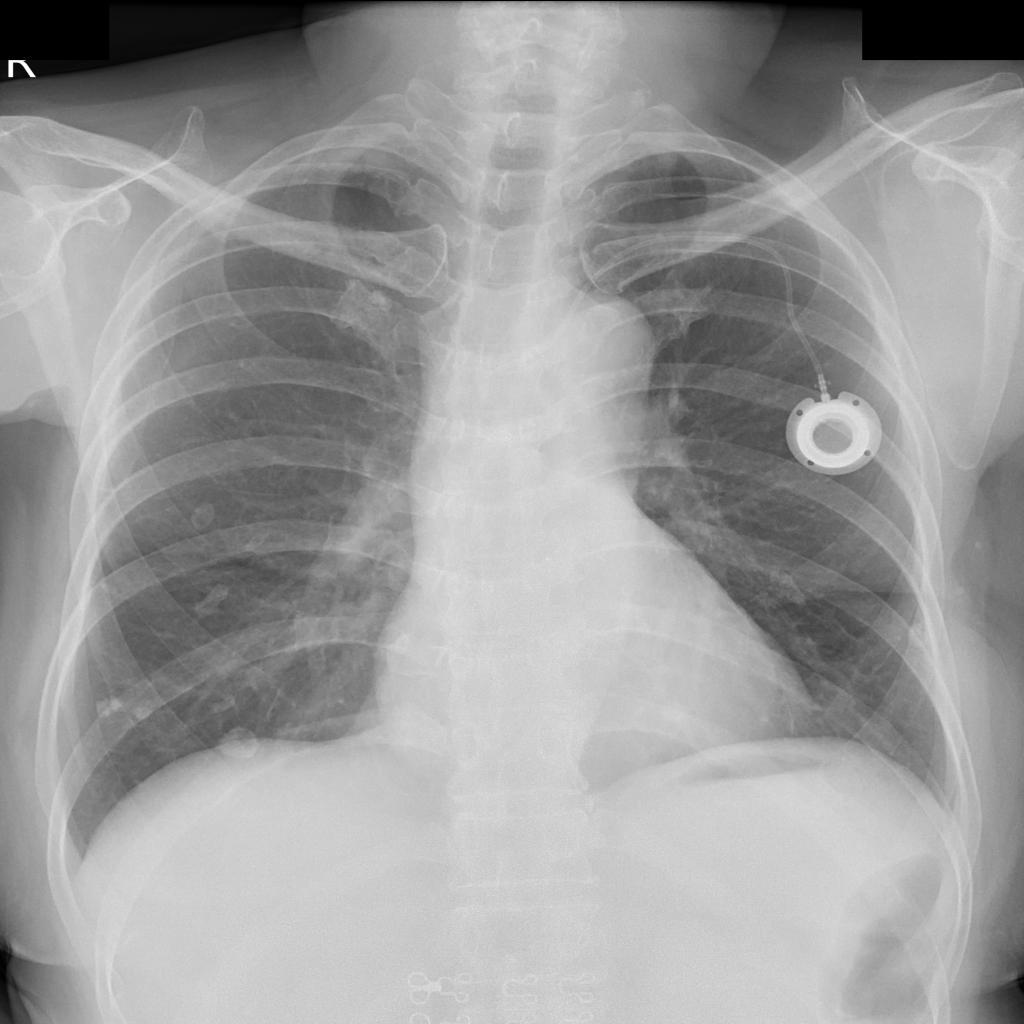Nodule: (94, 698, 154, 724), (215, 730, 259, 763), (196, 582, 230, 619), (190, 499, 216, 529)
